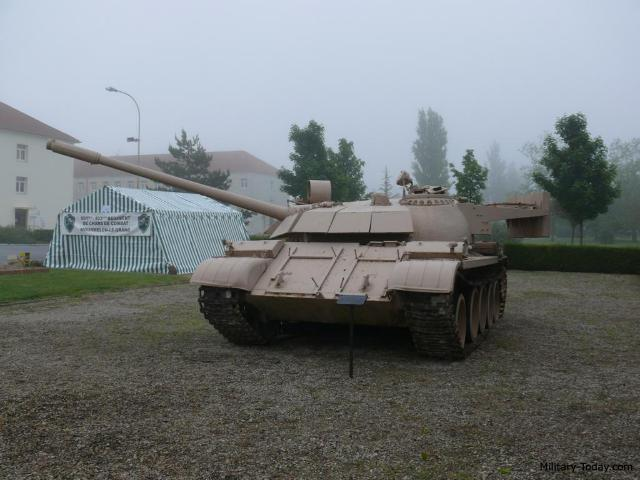tank: (188, 169, 516, 351)
